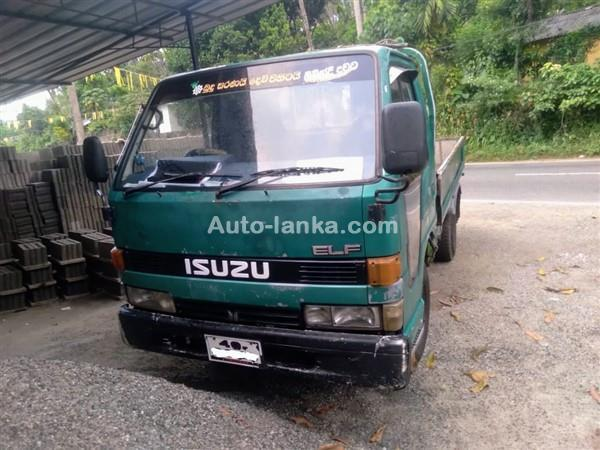truck: (83, 42, 466, 390)
